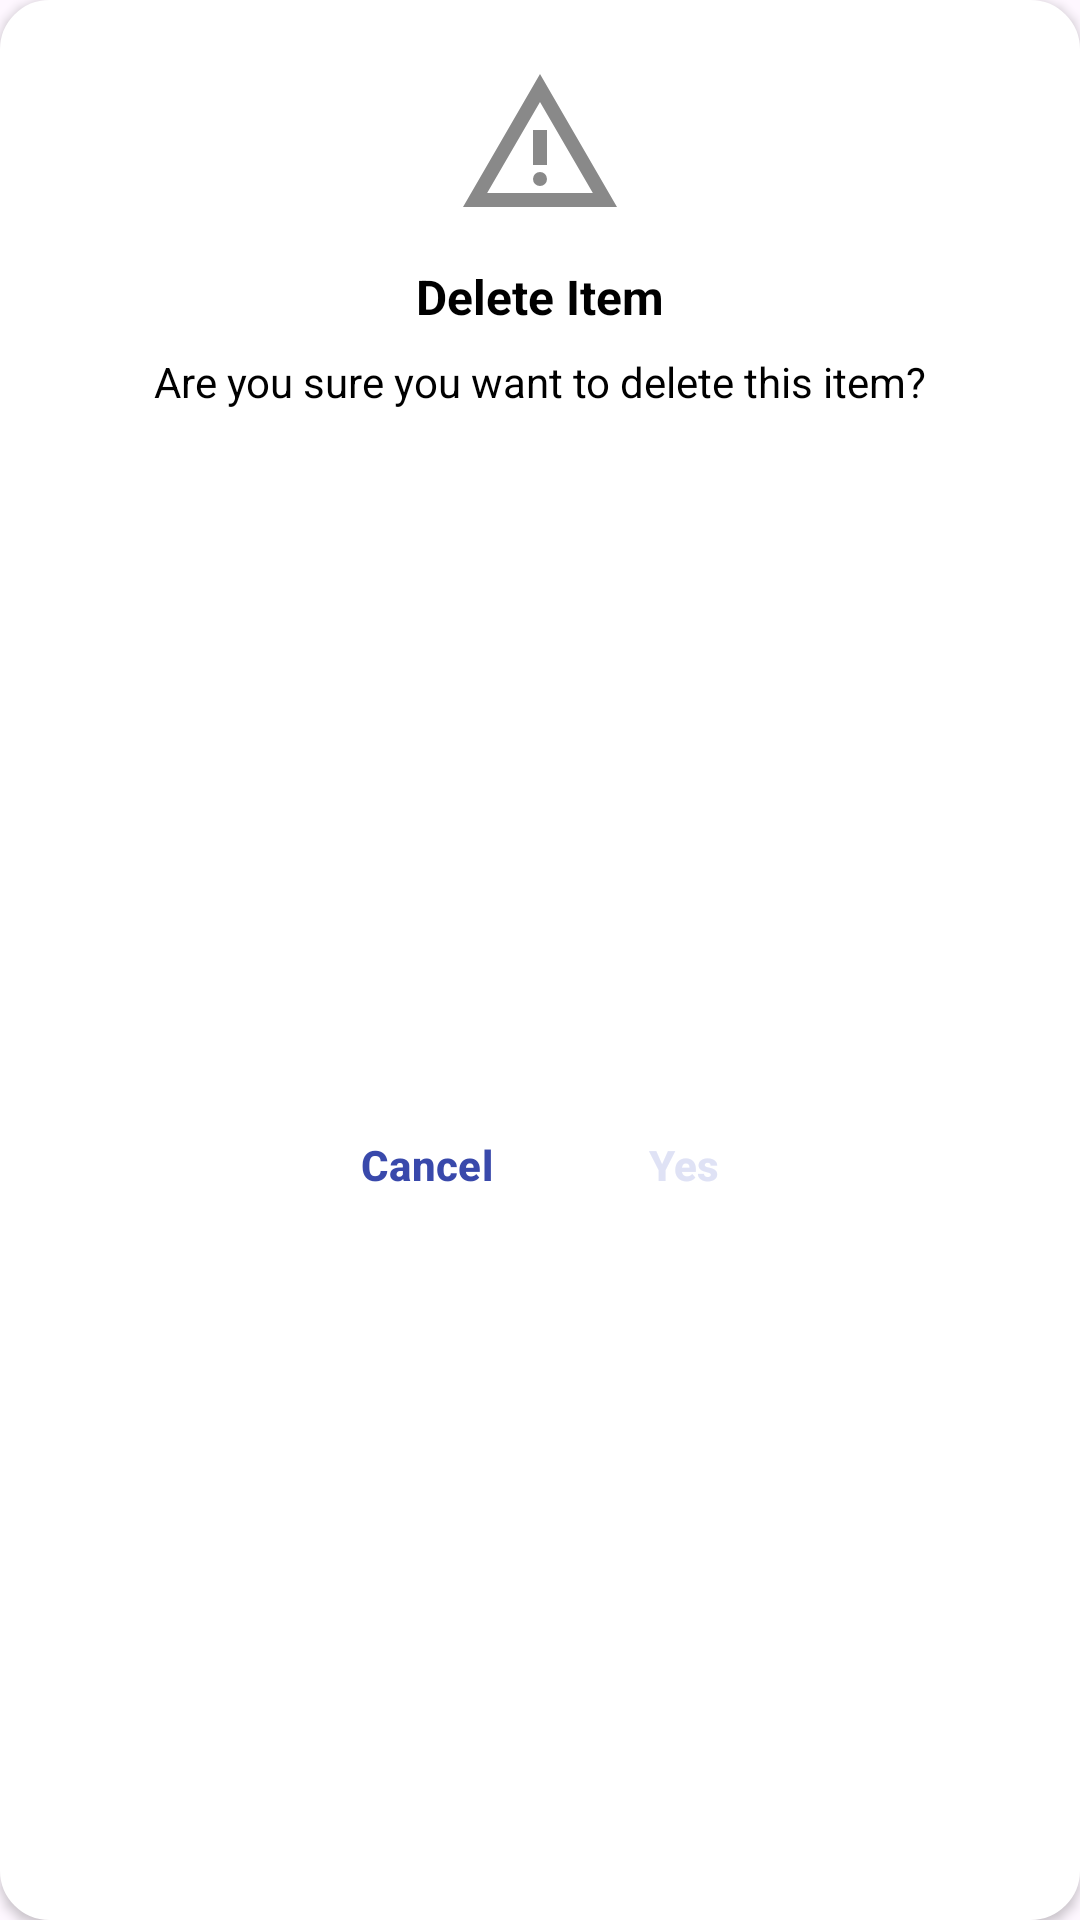

Where icons sit on this 1080×1920 app screen, as (x1, y1, x2, y2):
warning: (463, 74, 617, 207)
